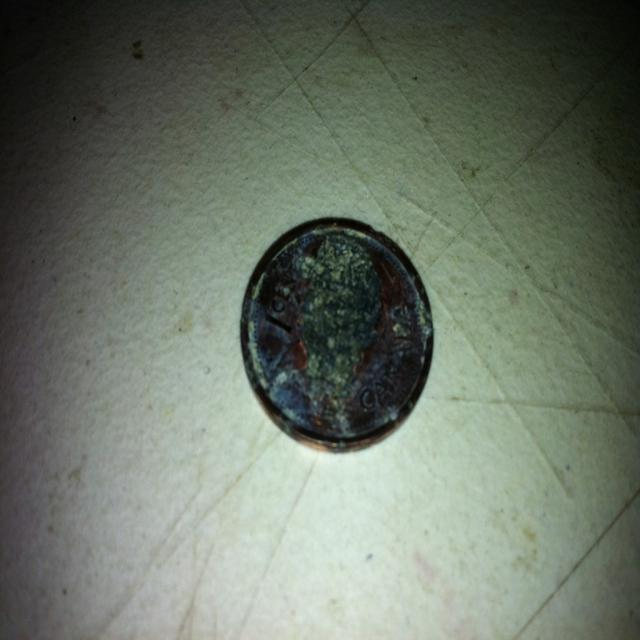Coin: (240, 216, 438, 452)
